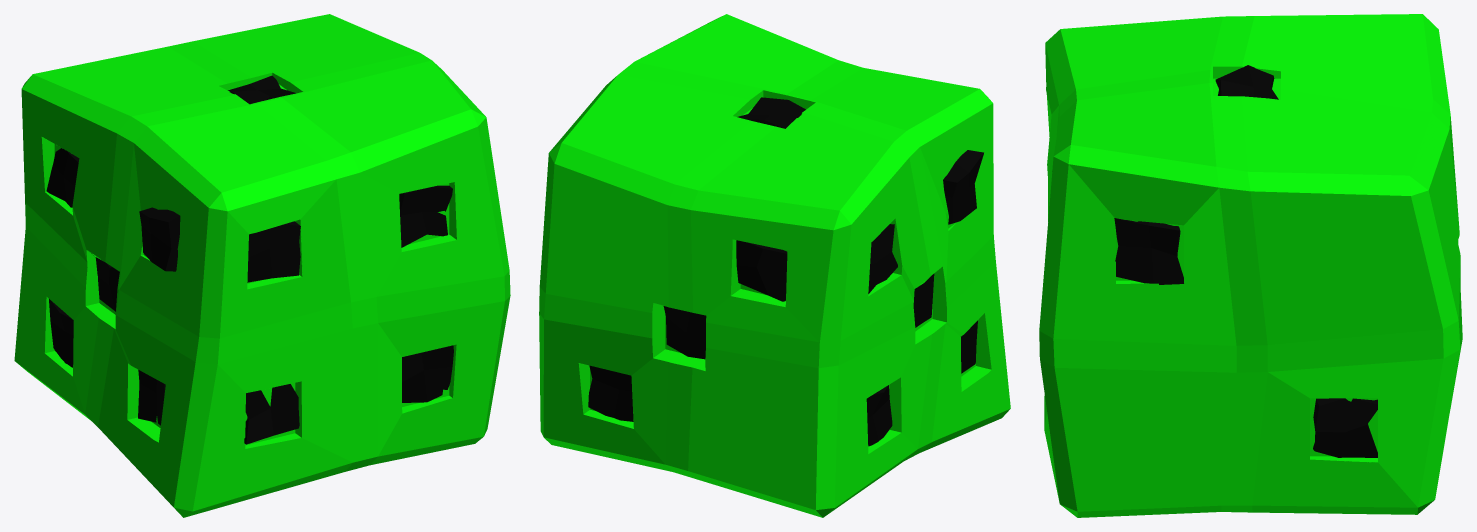
File: 7_ugly_dice_green.gltf
The picture shows the model from 3 angles, left to right: view 1: azimuth 30°, elevation 25°; view 2: azimuth 150°, elevation 25°; view 3: azimuth 270°, elevation 25°; orthographic projection. The views are drawn at different scales.
Parts seen in each view (by area): view 1: D6_Dice_Green; view 2: D6_Dice_Green; view 3: D6_Dice_Green.
Part boxes in pixels (left/top/right/bottom): D6_Dice_Green: left=14, top=14, right=510, bottom=517; D6_Dice_Green: left=539, top=14, right=1010, bottom=517; D6_Dice_Green: left=1039, top=14, right=1462, bottom=517.
Bounding box in the file's own units: 2.17 × 2.12 × 2.18.
